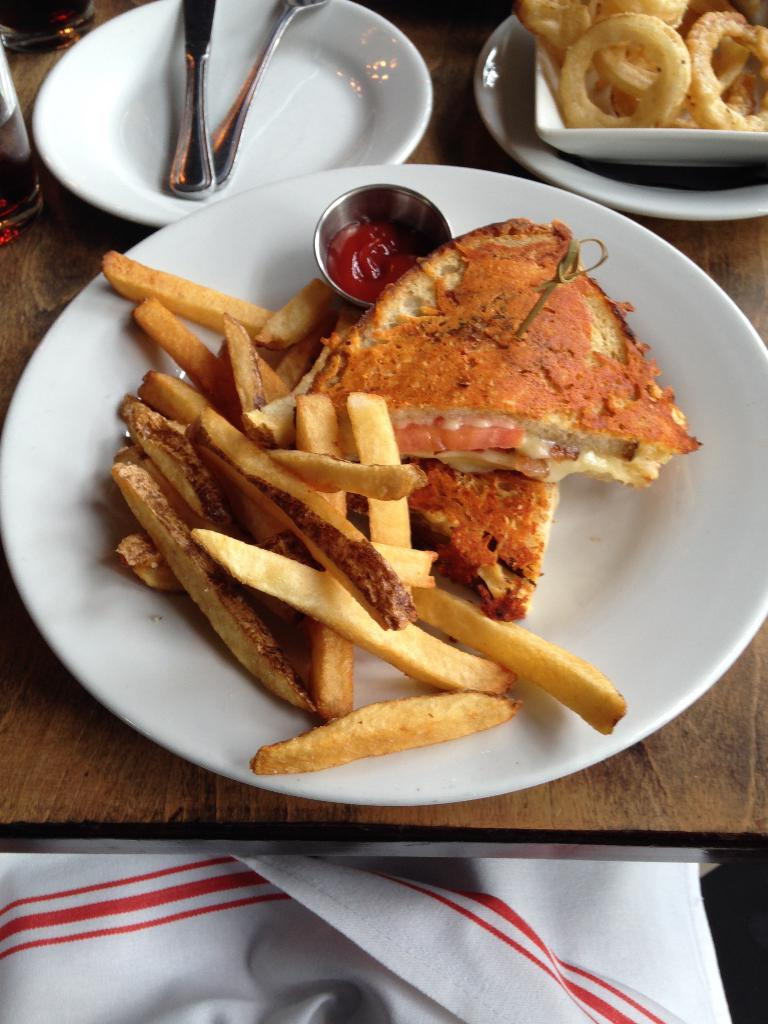French fries: (92, 240, 630, 780)
